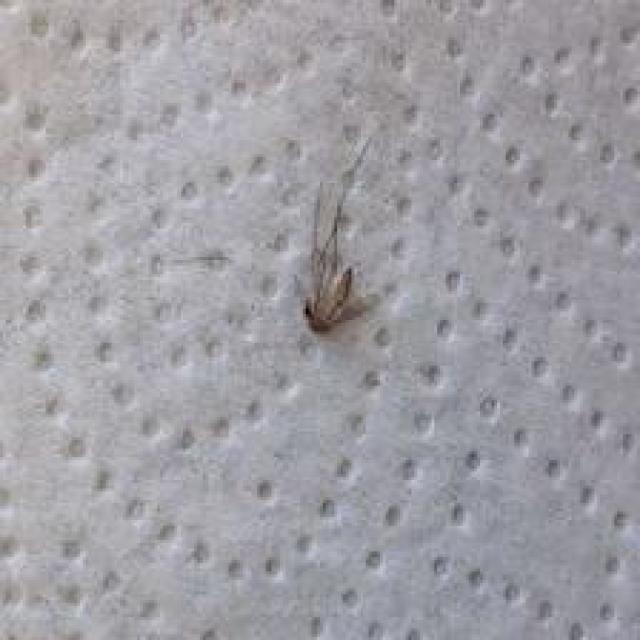Culex: (300, 134, 377, 334)
